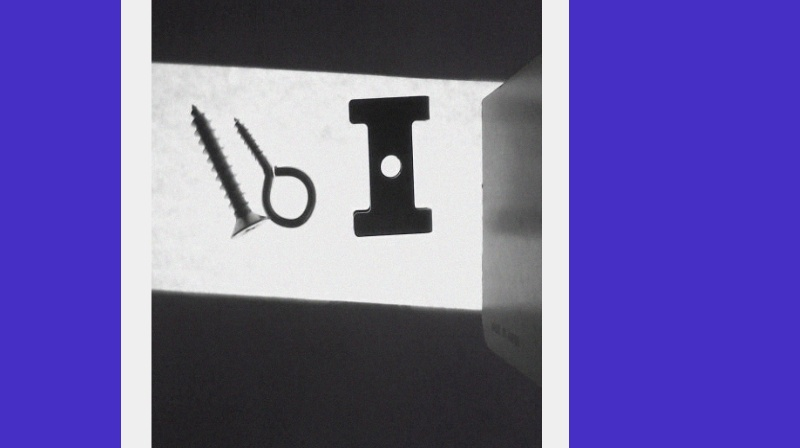O001: (230, 115, 315, 230)
O002: (346, 93, 432, 239)
S001: (186, 100, 267, 241)
